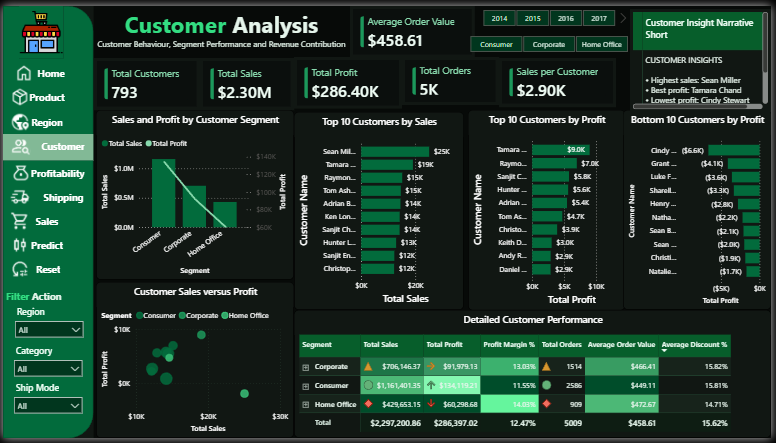

The dashboard page shown, as its layout file describes it:
{"tool":"powerbi","page":{"name":"Customer Analysis","canvas":[1280,720],"ordinal":4},"visuals":[{"type":"textbox","box":[150,0,428.3,86.7],"z":0},{"type":"shape","box":[0,0,150.6,720.5],"z":1000},{"type":"cardVisual","fields":{"Data":["_Measures.Total Customers"]},"box":[151.7,86.7,176.7,86.7],"z":2000},{"type":"cardVisual","fields":{"Data":["_Measures.Total Sales"]},"box":[328.3,86.7,156.7,86.7],"z":3000},{"type":"lineClusteredColumnComboChart","title":"Sales and Profit by Customer Segment","fields":{"Y":["_Measures.Total Sales"],"Y2":["_Measures.Total Profit"],"Category":["DimCustomer.Segment"]},"box":[155,173.3,330,283.3],"z":4000},{"type":"cardVisual","fields":{"Data":["_Measures.Total Profit"]},"box":[485,85,180,86.4],"z":5000},{"type":"cardVisual","fields":{"Data":["_Measures.Total Orders"]},"box":[665,85,161.7,80],"z":6000},{"type":"cardVisual","fields":{"Data":["_Measures.Sales per Customer"]},"box":[826.7,86.7,195,81.7],"z":7000},{"type":"cardVisual","fields":{"Data":["_Measures.Average Order Value"]},"box":[578.3,0,208.3,86.7],"z":8000},{"type":"textbox","box":[0,468,160.9,35.4],"z":9000},{"type":"slicer","fields":{"Values":["DimLocation.Region"]},"box":[10.3,493.1,134.3,65],"z":10000},{"type":"slicer","fields":{"Values":["DimProduct.Category"]},"box":[8.9,558.1,134.3,62],"z":11000},{"type":"slicer","fields":{"Values":["DimShipMode.Ship Mode"]},"box":[8.9,620.1,134.3,59.1],"z":12000},{"type":"actionButton","box":[8.9,417.8,134.3,39.9],"z":13000},{"type":"actionButton","title":"Home","box":[8.9,172.7,129.9,39.9],"z":14000},{"type":"actionButton","title":"Home","box":[8.9,131.4,129.9,39.9],"z":15000},{"type":"actionButton","title":"Home","box":[10.3,258.4,129.9,39.9],"z":16000},{"type":"actionButton","title":"Home","box":[8.9,298.2,129.9,39.9],"z":17000},{"type":"actionButton","title":"Home","box":[8.9,338.1,129.9,39.9],"z":18000},{"type":"shape","box":[0,212.6,150.6,44.3],"z":19000},{"type":"actionButton","title":"Home","box":[8.9,377.9,129.9,39.9],"z":20000},{"type":"actionButton","title":"Home","box":[14.8,91.5,129.9,39.9],"z":21000},{"type":"actionButton","title":"Home","box":[10.3,212.6,129.9,39.9],"z":22000},{"type":"slicer","fields":{"Values":["DimDate.Year"]},"box":[775,0,269.3,40.3],"z":23000},{"type":"slicer","fields":{"Values":["DimCustomer.Segment"]},"box":[753.3,43.3,311.7,36.7],"z":24000},{"type":"clusteredBarChart","title":"Top 10 Customers by Sales","fields":{"Y":["_Measures.Total Sales"],"Category":["DimCustomer.Customer Name"]},"box":[485,176.7,283,329.9],"z":25000},{"type":"clusteredBarChart","title":"Top 10 Customers by Profit","fields":{"Y":["_Measures.Total Profit"],"Category":["DimCustomer.Customer Name"]},"box":[775,173.3,262.5,334.3],"z":26000},{"type":"clusteredBarChart","title":"Bottom 10 Customers by Profit","fields":{"Y":["_Measures.Total Profit"],"Category":["DimCustomer.Customer Name"]},"box":[1033.3,173.3,246.7,333.3],"z":27000},{"type":"scatterChart","title":"Customer Sales versus Profit","fields":{"Category":["DimCustomer.Customer Name"],"X":["_Measures.Total Sales"],"Series":["DimCustomer.Segment"],"Y":["_Measures.Total Profit"],"Size":["_Measures.Total Orders"]},"box":[155,460,330,260],"z":28000},{"type":"pivotTable","title":"Detailed Customer Performance","fields":{"Values":["_Measures.Total Sales","_Measures.Total Profit","_Measures.Profit Margin %","_Measures.Total Orders","_Measures.Average Order Value","_Measures.Average Discount %"],"Rows":["DimCustomer.Segment","DimCustomer.Customer Name"]},"box":[485,506.7,795,213.3],"z":29000},{"type":"pivotTable","fields":{"Values":["_Measures.Customer Insight Narrative Short"]},"box":[1045,5,235,171.7],"z":30000},{"type":"image","box":[26.6,0,73.8,87.1],"z":31000}]}

Visuals, with their boxes in screenshot pixels (x1, y1, x2, y2), scaled from the page's 1280x720 canvas onto the 776x443 screenshot:
textbox: [91, 0, 351, 53]
shape: [0, 0, 91, 442]
cardVisual - _Measures.Total Customers: [92, 53, 199, 107]
cardVisual - _Measures.Total Sales: [199, 53, 294, 107]
"Sales and Profit by Customer Segment" lineClusteredColumnComboChart: [94, 107, 294, 281]
cardVisual - _Measures.Total Profit: [294, 52, 403, 105]
cardVisual - _Measures.Total Orders: [403, 52, 501, 102]
cardVisual - _Measures.Sales per Customer: [501, 53, 619, 104]
cardVisual - _Measures.Average Order Value: [351, 0, 477, 53]
textbox: [0, 288, 98, 310]
slicer - DimLocation.Region: [6, 303, 88, 343]
slicer - DimProduct.Category: [5, 343, 87, 382]
slicer - DimShipMode.Ship Mode: [5, 382, 87, 418]
actionButton: [5, 257, 87, 282]
"Home" actionButton: [5, 106, 84, 131]
"Home" actionButton: [5, 81, 84, 105]
"Home" actionButton: [6, 159, 85, 184]
"Home" actionButton: [5, 183, 84, 208]
"Home" actionButton: [5, 208, 84, 233]
shape: [0, 131, 91, 158]
"Home" actionButton: [5, 233, 84, 257]
"Home" actionButton: [9, 56, 88, 81]
"Home" actionButton: [6, 131, 85, 155]
slicer - DimDate.Year: [470, 0, 633, 25]
slicer - DimCustomer.Segment: [457, 27, 646, 49]
"Top 10 Customers by Sales" clusteredBarChart: [294, 109, 466, 312]
"Top 10 Customers by Profit" clusteredBarChart: [470, 107, 629, 312]
"Bottom 10 Customers by Profit" clusteredBarChart: [626, 107, 775, 312]
"Customer Sales versus Profit" scatterChart: [94, 283, 294, 442]
"Detailed Customer Performance" pivotTable: [294, 312, 775, 442]
pivotTable - _Measures.Customer Insight Narrative Short: [634, 3, 775, 109]
image: [16, 0, 61, 54]
